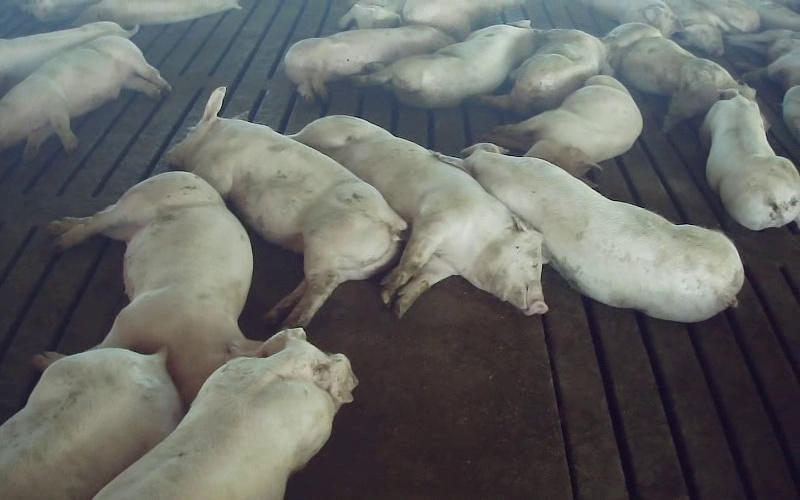pig: (165, 88, 405, 326), (293, 116, 546, 316), (463, 143, 743, 321), (50, 172, 260, 406), (95, 329, 357, 499), (0, 348, 182, 499), (0, 36, 170, 159), (481, 75, 642, 176), (603, 23, 738, 129), (700, 85, 799, 229), (284, 25, 452, 100), (482, 29, 606, 115), (0, 21, 138, 97)
